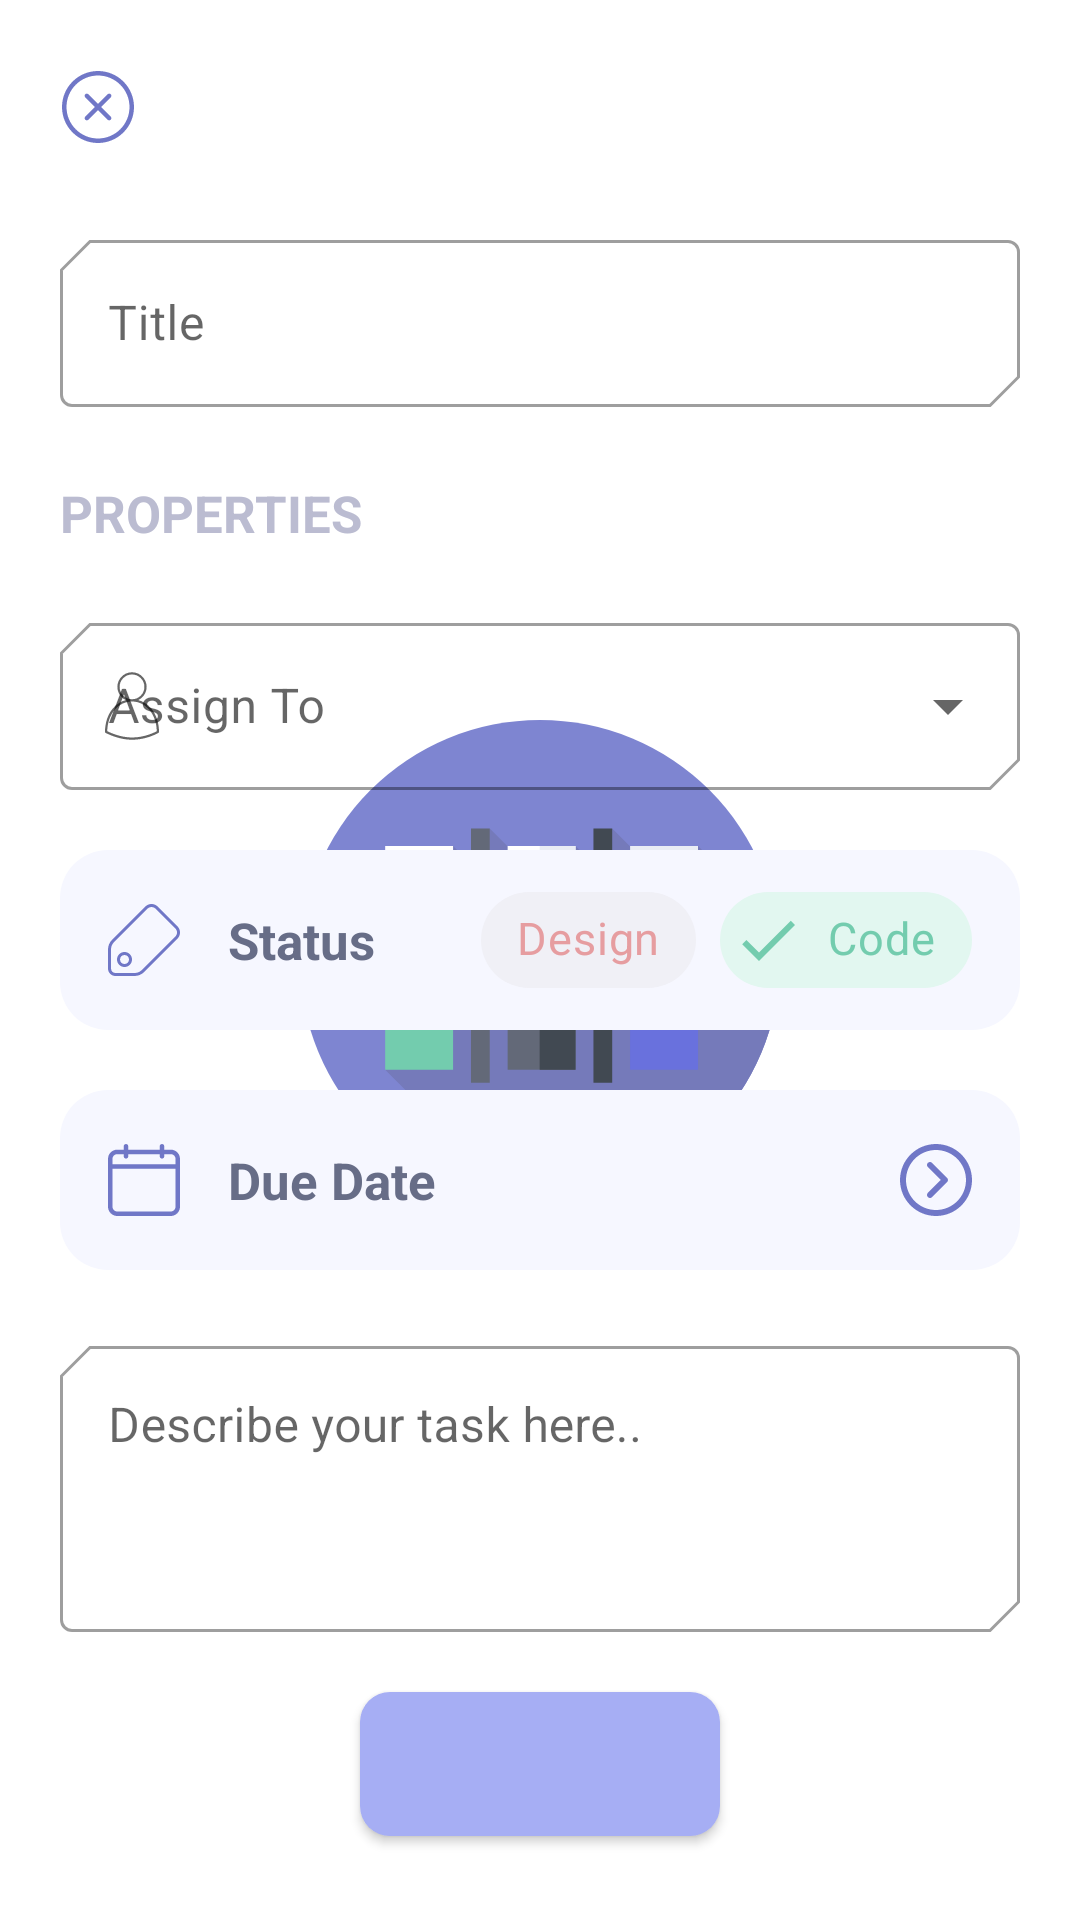

Where to tap for icons on this 1080×1920 app screen, as point (x, y):
arrow: point (936, 1180)
calendar: point (144, 1180)
exit: point (98, 107)
